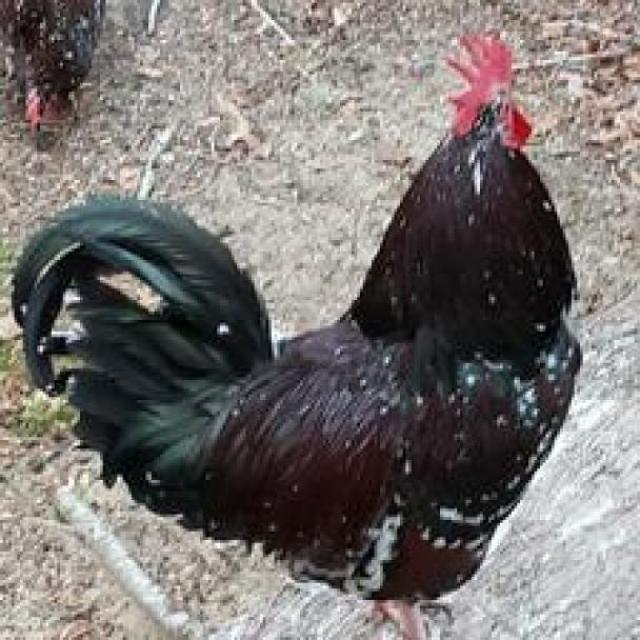Chicken: (28, 44, 604, 640)
